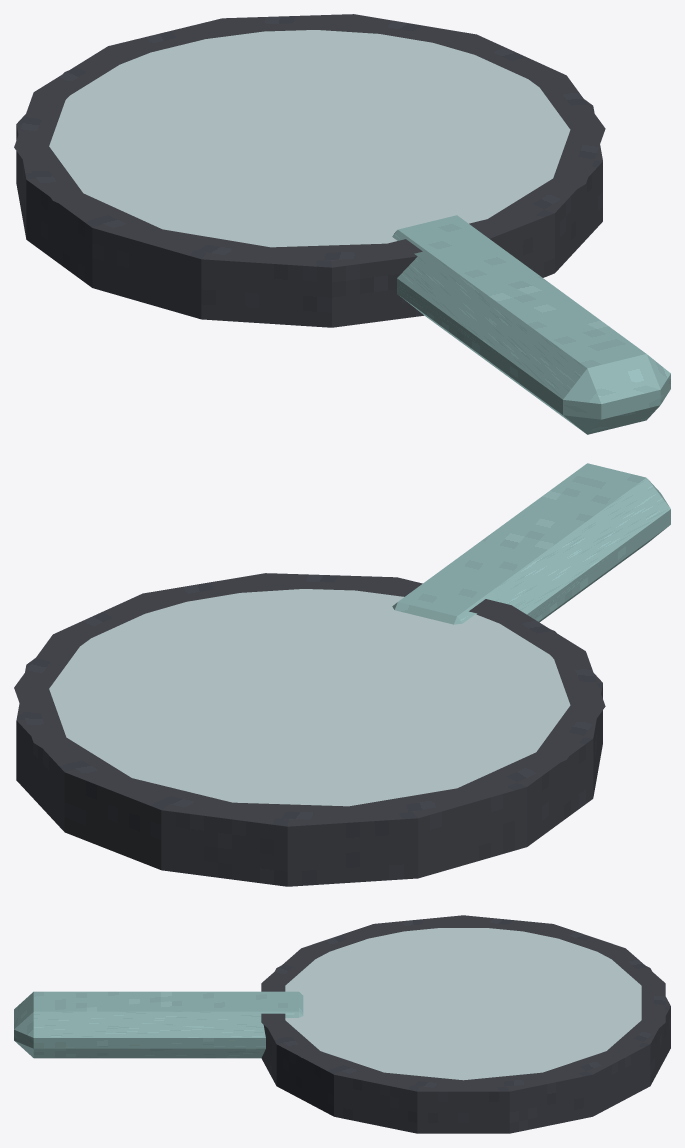
Rendered from mirror.glb.
3 renders of one model, top to bottom at view 1: azimuth 30°, elevation 25°; view 2: azimuth 150°, elevation 25°; view 3: azimuth 270°, elevation 25°, orthographic. The views are drawn at different scales.
Parts seen in each view (by area): view 1: block_optical face, block_outer rim, block_hand grip, block_raised lip 12, block_raised lip 11, block_raised lip 4, block_raised lip 5, block_raised lip 10, block_raised lip 13, block_raised lip 6, block_raised lip 2, block_raised lip 9 (+5 smaller); view 2: block_optical face, block_outer rim, block_hand grip, block_raised lip 8, block_raised lip 2, block_raised lip 1, block_raised lip 9, block_raised lip 10, block_raised lip 7, block_raised lip 0, block_raised lip 4, block_raised lip 11 (+5 smaller); view 3: block_optical face, block_outer rim, block_hand grip, block_raised lip 0, block_raised lip 13, block_raised lip 6, block_raised lip 7, block_raised lip 5, block_raised lip 8, block_raised lip 10, block_raised lip 1, block_raised lip 12 (+5 smaller).
Part boxes in pixels (x1,y1,x2,y2): block_optical face: (49, 30, 570, 247); block_outer rim: (16, 29, 602, 327); block_hand grip: (392, 215, 670, 434); block_raised lip 12: (349, 14, 476, 46); block_raised lip 11: (222, 14, 353, 32); block_raised lip 4: (265, 243, 396, 261); block_raised lip 5: (143, 229, 270, 261); block_raised lip 10: (108, 18, 232, 56); block_raised lip 13: (457, 34, 566, 82); block_raised lip 6: (53, 193, 161, 241); block_raised lip 2: (488, 178, 585, 229); block_raised lip 9: (34, 46, 131, 97); block_optical face: (49, 589, 570, 806); block_outer rim: (16, 588, 602, 886); block_hand grip: (392, 463, 670, 624); block_raised lip 8: (349, 788, 476, 820); block_raised lip 2: (265, 573, 396, 591); block_raised lip 1: (143, 573, 270, 605); block_raised lip 9: (222, 802, 353, 820); block_raised lip 10: (108, 778, 232, 816); block_raised lip 7: (457, 752, 566, 800); block_raised lip 0: (53, 593, 161, 641); block_raised lip 4: (488, 605, 585, 656); block_raised lip 11: (34, 737, 131, 788); block_optical face: (285, 928, 641, 1080); block_outer rim: (261, 925, 670, 1133); block_hand grip: (14, 991, 303, 1058); block_raised lip 0: (374, 1072, 463, 1090); block_raised lip 13: (463, 1072, 552, 1090); block_raised lip 6: (374, 915, 463, 933); block_raised lip 7: (463, 915, 552, 933); block_raised lip 5: (302, 924, 383, 954); block_raised lip 8: (543, 924, 624, 954); block_raised lip 10: (641, 983, 665, 1022); block_raised lip 1: (301, 1051, 383, 1081); block_raised lip 12: (543, 1051, 625, 1081).
Bounding box in the file's own units: 0.155 × 0.0192 × 0.2453.
1 material, 1 textured.
